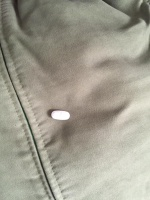Centik Buskopan: (50, 109, 71, 121)
